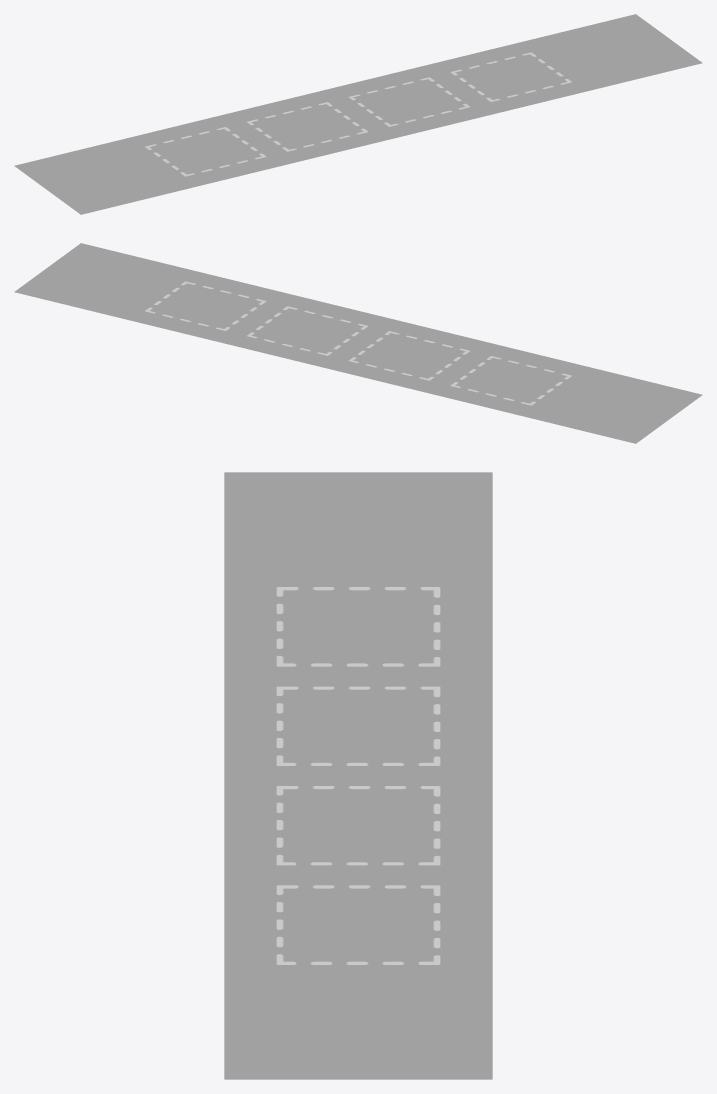
File: Dashed_Square.fbx
The picture shows the model from 3 angles, top to bottom: view 1: azimuth 30°, elevation 25°; view 2: azimuth 150°, elevation 25°; view 3: azimuth 270°, elevation 25°; orthographic projection. The views are drawn at different scales.
Visible parts, largest first — view 1: Plane; view 2: Plane; view 3: Plane.
Boxes of the visible parts, box(x1,y1,x2,y2) form: Plane: box(14, 14, 702, 214); Plane: box(14, 243, 702, 443); Plane: box(224, 472, 492, 1079).
Bounding box in the file's own units: 2104 × 0 × 393.
